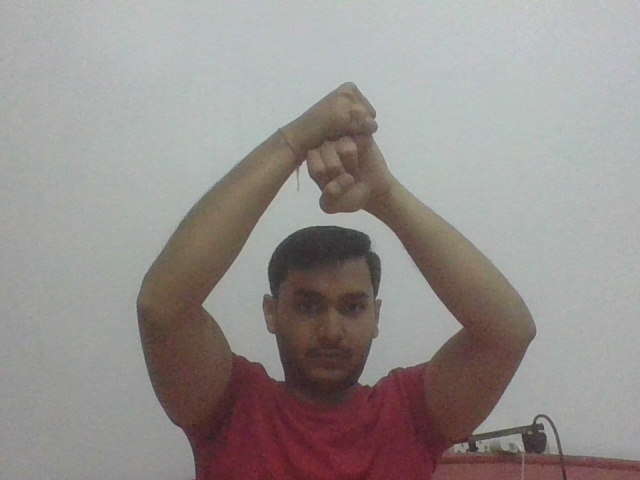S: (302, 70, 385, 218)
